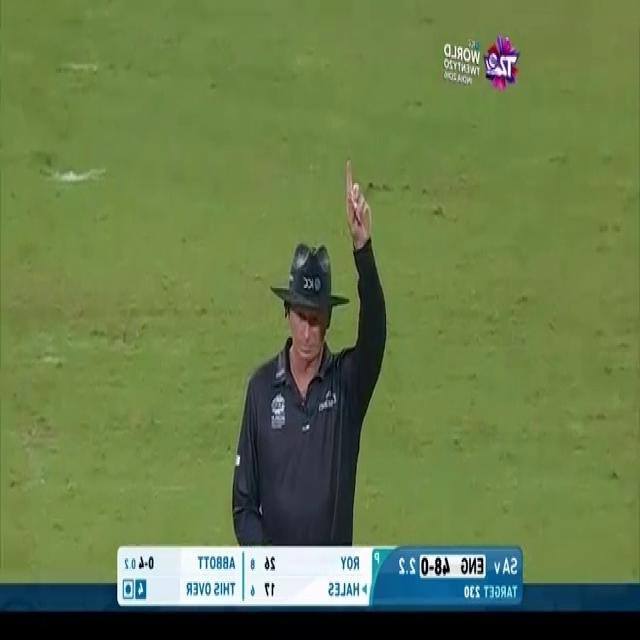Out: (225, 148, 390, 546)
